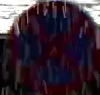No waiting: (6, 0, 98, 94)
